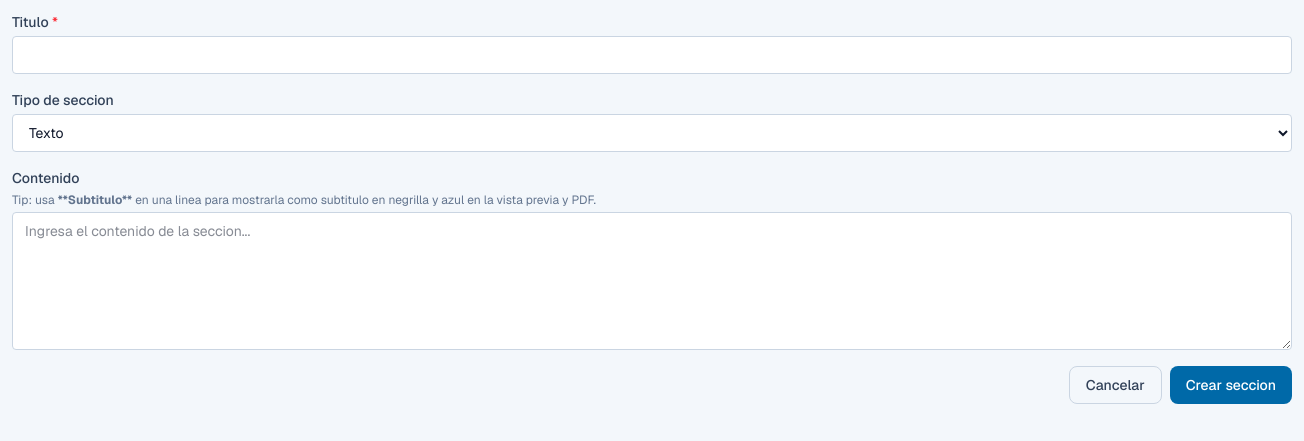
SectionForm › shows validation errors when title is empty
The width and height of the screenshot is (1304, 441).
Click the button "Crear seccion" at (1231, 385), box top-left (1170, 366), bottom-right (1292, 404)
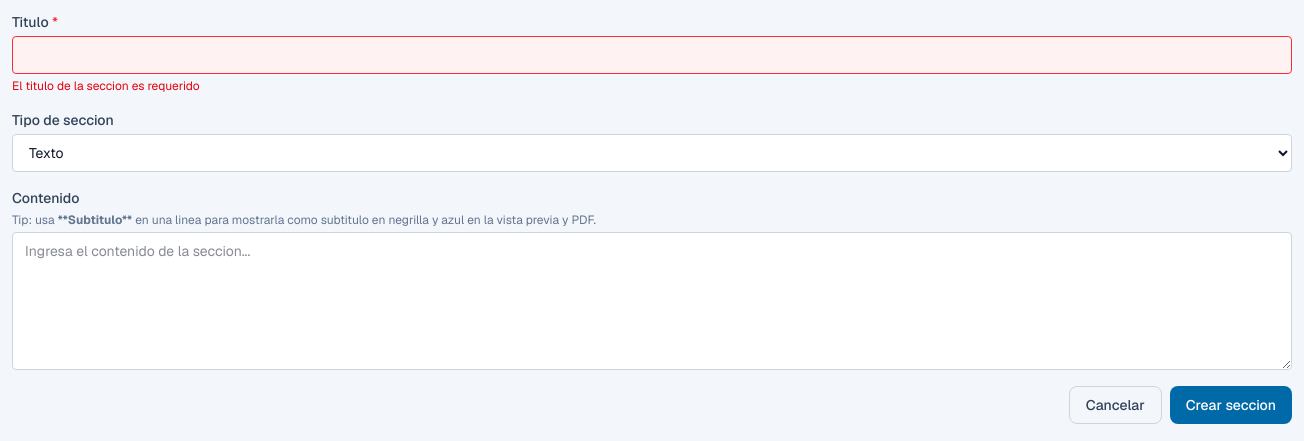
Expected: the text "El titulo de la seccion es requerido" is shown, top-left (12, 78), bottom-right (200, 94)
